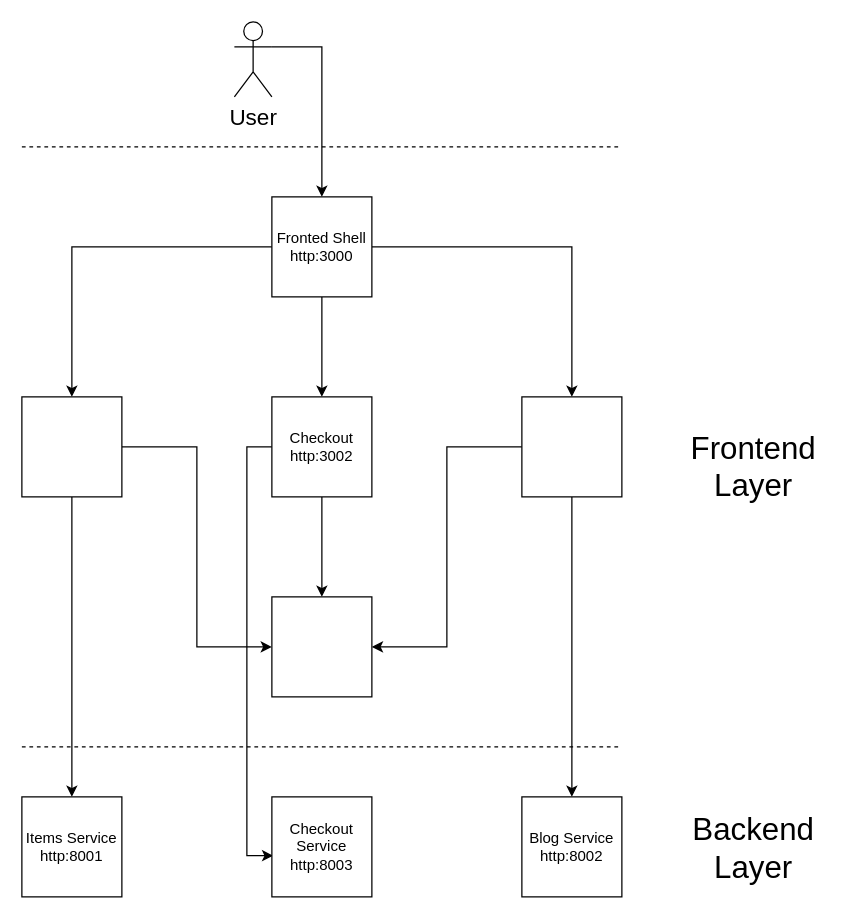
The diagram is 844 pixels wide and 919 high, and some of its shapes have lost their labels. The shapes that lost their labels are listed below. From the top down, each one's box as (x1, y1, x2, y2) in pixels, then its label:
(21, 396, 122, 497): Items http:3001
(521, 396, 622, 497): Blog http:3003
(271, 596, 372, 697): Shared http:3004
